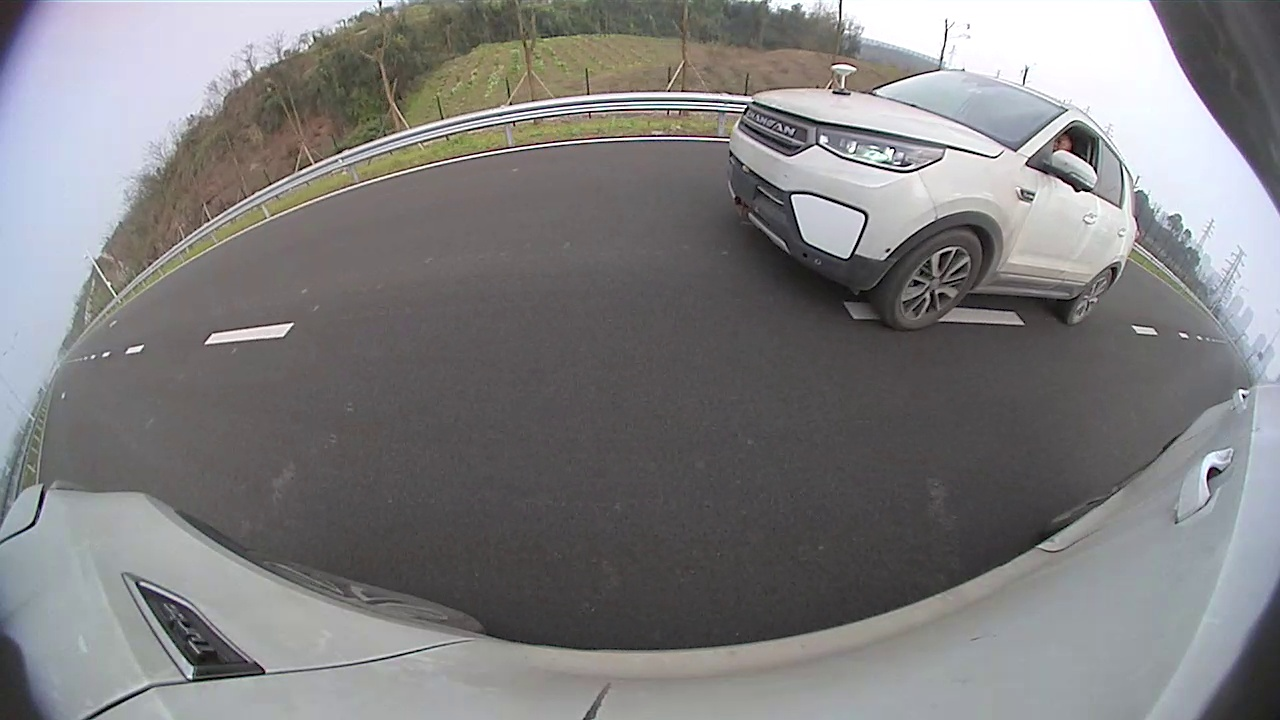car: (727, 62, 1142, 332)
front: (883, 231, 982, 329)
rear: (1069, 268, 1115, 323)
